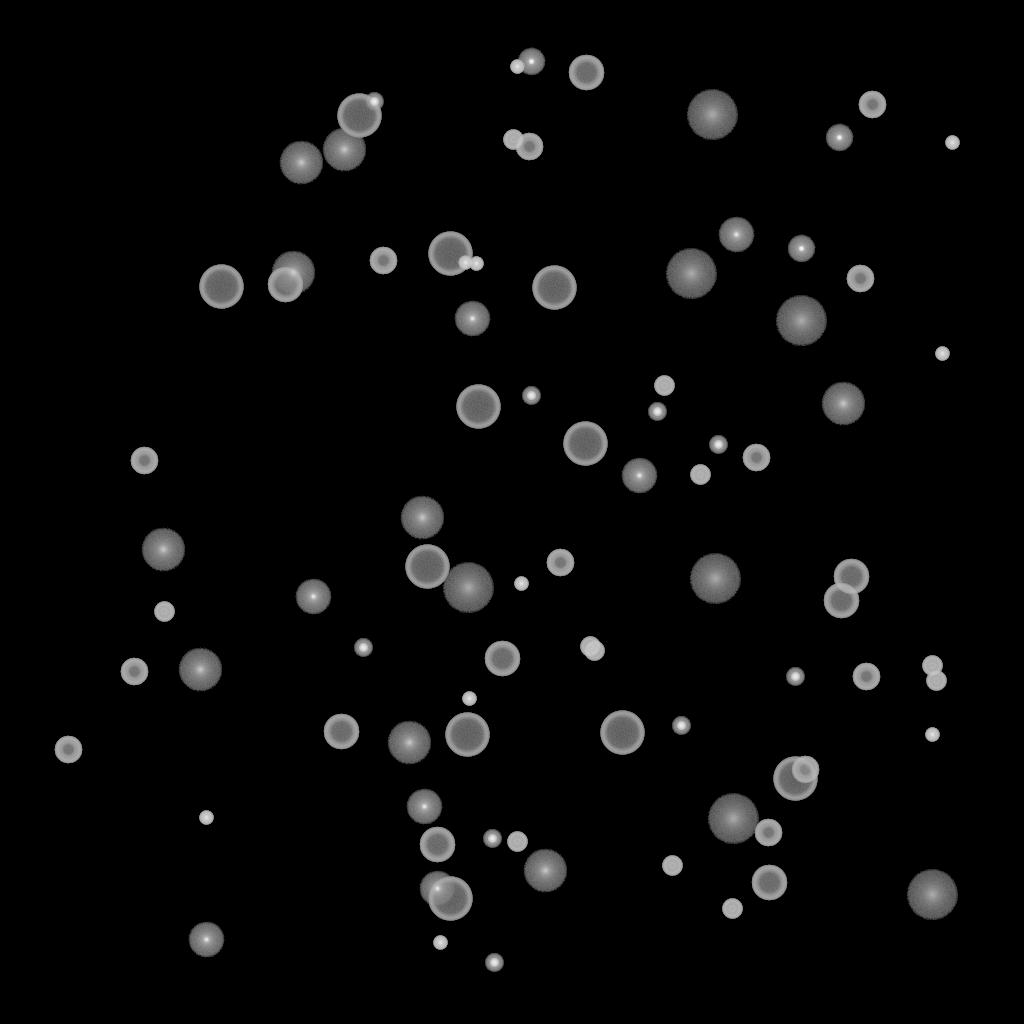depth:-10: (825, 124, 853, 152), (517, 48, 545, 76), (787, 235, 815, 263)
depth:-20: (709, 436, 727, 454), (648, 403, 666, 421), (786, 668, 804, 686), (354, 639, 372, 657), (365, 93, 383, 111), (672, 717, 690, 735), (485, 954, 503, 972), (522, 387, 540, 405), (483, 830, 501, 848)
depth:-30: (514, 577, 528, 591), (469, 257, 483, 271), (433, 936, 447, 950), (199, 811, 213, 825), (462, 692, 476, 706), (945, 136, 959, 150), (458, 256, 472, 270), (925, 728, 939, 742), (935, 347, 949, 361), (510, 60, 524, 74)
depth:-40: (503, 130, 523, 150), (580, 637, 600, 657), (690, 465, 710, 485), (507, 832, 527, 852), (154, 602, 174, 622), (584, 641, 604, 661), (662, 856, 682, 876), (926, 671, 946, 691), (722, 899, 742, 919), (654, 376, 674, 396), (922, 656, 942, 676)
depth:-50: (858, 91, 886, 119), (754, 819, 782, 847), (515, 133, 543, 161), (546, 549, 574, 577), (846, 265, 874, 293), (54, 736, 82, 764), (742, 444, 770, 472), (369, 247, 397, 275), (852, 663, 880, 691), (791, 756, 819, 784), (130, 447, 158, 475), (120, 658, 148, 686)
depth:-60: (833, 559, 869, 595), (419, 827, 455, 863), (484, 641, 520, 677), (751, 865, 787, 901), (823, 583, 859, 619), (323, 714, 359, 750), (267, 267, 303, 303), (568, 55, 604, 91)
depth:-70: (428, 877, 472, 921), (445, 713, 489, 757), (456, 385, 500, 429), (405, 545, 449, 589), (773, 757, 817, 801), (428, 232, 472, 276), (532, 266, 576, 310), (600, 711, 644, 755), (563, 422, 607, 466), (199, 265, 243, 309), (337, 94, 381, 138)
depth:0: (406, 789, 442, 825), (188, 922, 224, 958), (621, 458, 657, 494), (419, 871, 455, 907), (454, 301, 490, 337), (718, 217, 754, 253), (295, 579, 331, 615)
depth:10: (821, 382, 865, 426), (271, 251, 315, 295), (322, 128, 366, 172), (178, 648, 222, 692), (400, 496, 444, 540), (141, 528, 185, 572), (387, 721, 431, 765), (523, 849, 567, 893), (279, 141, 323, 185)
depth:20: (665, 249, 717, 299), (707, 794, 759, 844), (906, 870, 958, 920), (686, 90, 738, 140), (775, 296, 827, 346), (689, 554, 741, 604), (442, 563, 494, 613)
